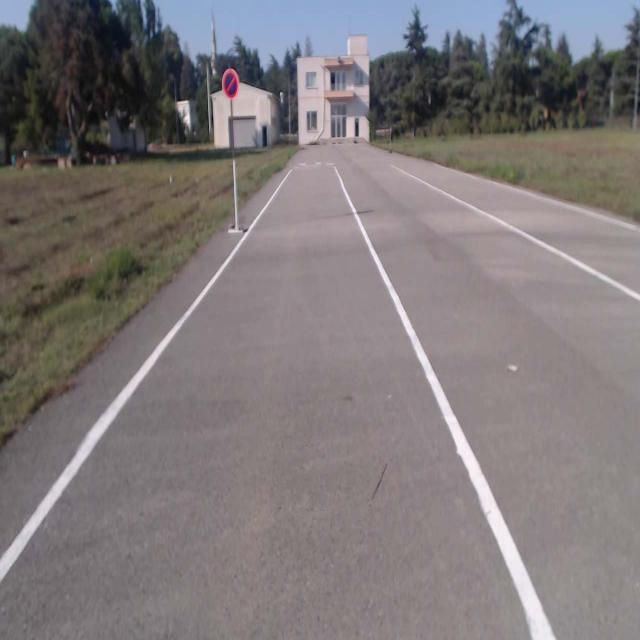parkyasak: (223, 68, 237, 98)
